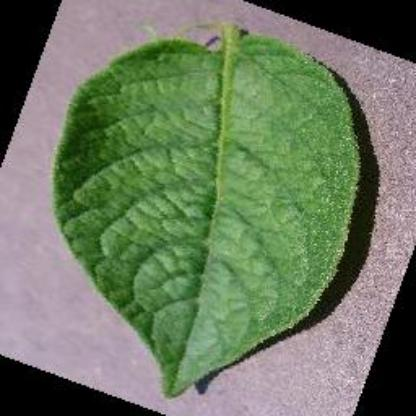Healthy-plant: (40, 18, 374, 406)
